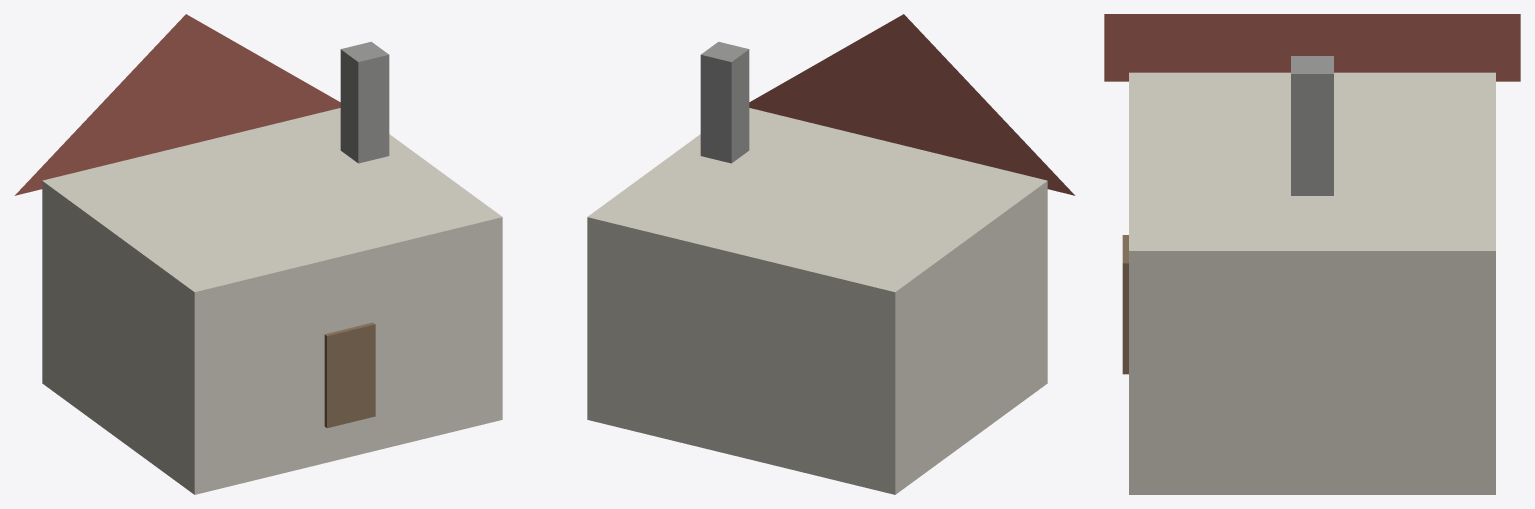
Rendered from house_1.glb.
The picture shows the model from 3 angles, left to right: view 1: azimuth 30°, elevation 25°; view 2: azimuth 150°, elevation 25°; view 3: azimuth 270°, elevation 25°; orthographic projection. The views are drawn at different scales.
Size of the model in its own units: 7.8 by 7.1 by 6.8.
